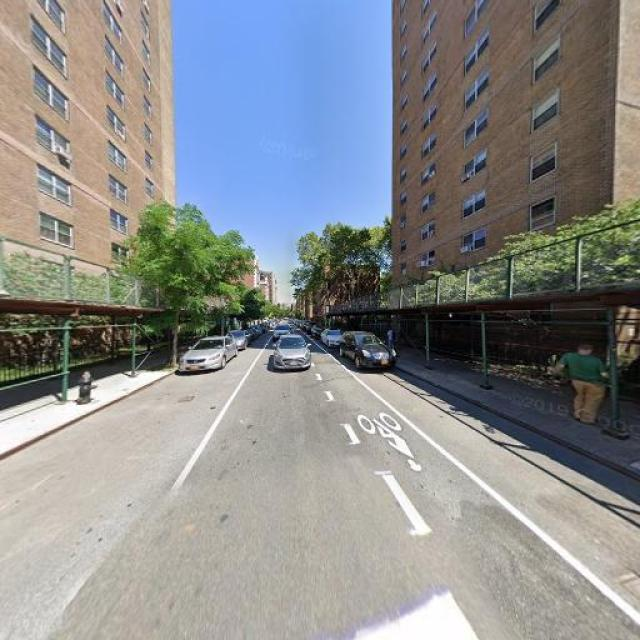Building: (394, 1, 640, 390), (1, 1, 172, 380)
